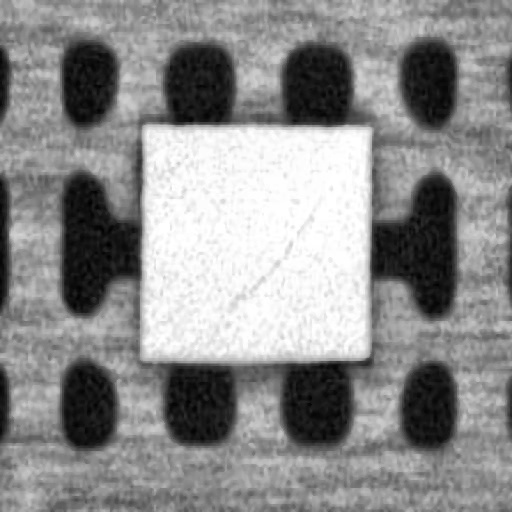DIE_CRACK: (234, 183, 324, 297)
